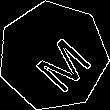M_NW: (19, 22, 88, 90)
